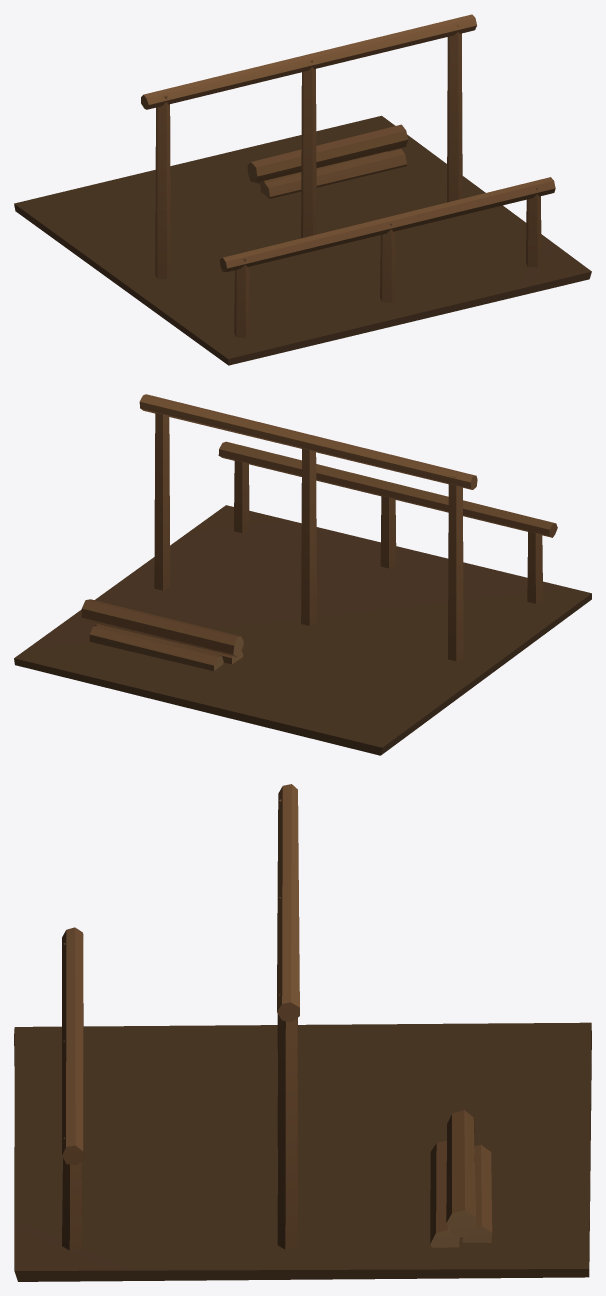
File: camp_s1.glb
The picture shows the model from 3 angles, top to bottom: view 1: azimuth 30°, elevation 25°; view 2: azimuth 150°, elevation 25°; view 3: azimuth 270°, elevation 25°; orthographic projection. The views are drawn at different scales.
Parts seen in each view (by area): view 1: camp_s1; view 2: camp_s1; view 3: camp_s1.
Boxes of the visible parts, x1,y1,x2,y2 form: camp_s1: (14, 14, 591, 365); camp_s1: (14, 394, 591, 755); camp_s1: (14, 784, 591, 1281).
Size of the model in its own units: 2.01 by 1.03 by 2.01.
